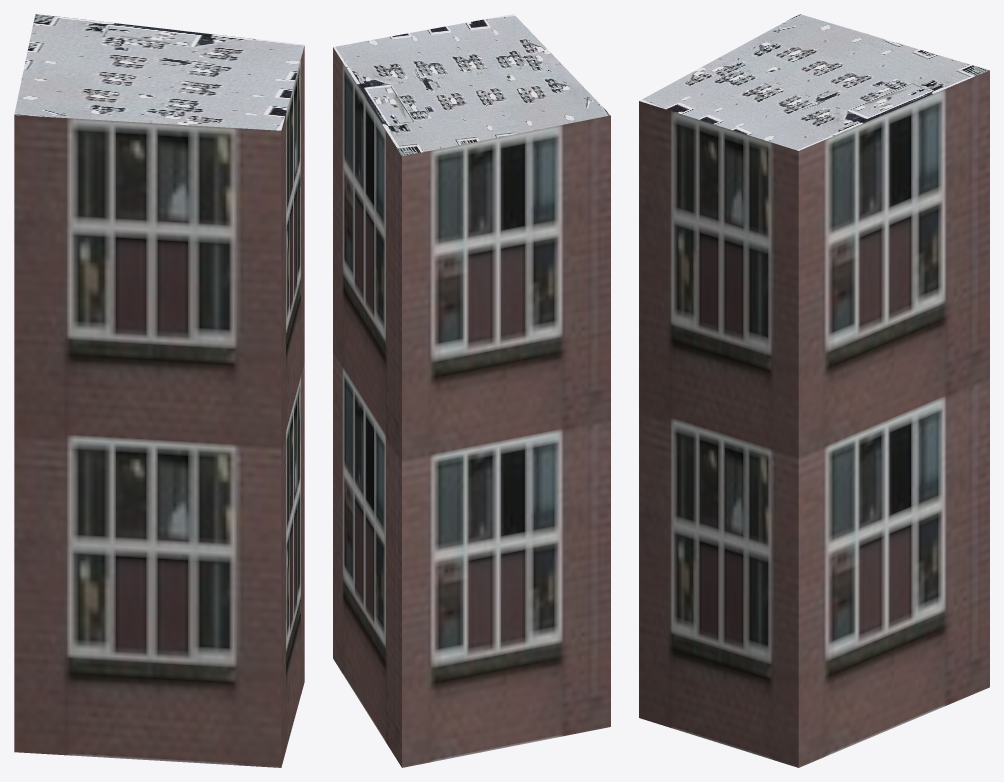
File: ResTex__1744.fbx
3 renders of one model, left to right at view 1: azimuth 30°, elevation 25°; view 2: azimuth 150°, elevation 25°; view 3: azimuth 270°, elevation 25°, orthographic. The views are drawn at different scales.
Parts seen in each view (by area): view 1: CityEngineMaterial_12_m, CityEngineMaterial_4_m; view 2: CityEngineMaterial_12_m, CityEngineMaterial_4_m; view 3: CityEngineMaterial_12_m, CityEngineMaterial_4_m.
Part boxes in pixels (x1,y1,x2,y2): CityEngineMaterial_12_m: [14, 46, 304, 767]; CityEngineMaterial_4_m: [14, 14, 304, 130]; CityEngineMaterial_12_m: [333, 47, 610, 767]; CityEngineMaterial_4_m: [333, 14, 610, 156]; CityEngineMaterial_12_m: [639, 70, 989, 767]; CityEngineMaterial_4_m: [639, 14, 989, 150].
Bounding box in the file's own units: 2.86 × 6 × 3.09.
Materials: 2 (2 with a texture image).
